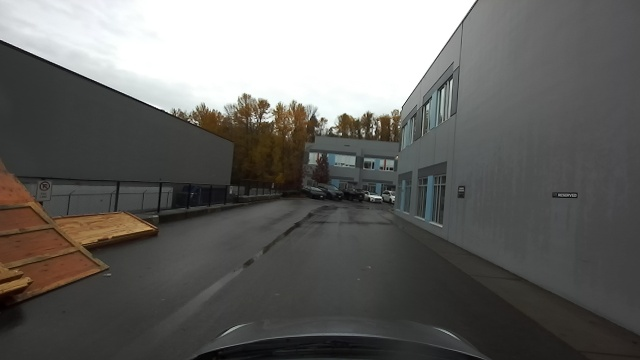car: (326, 186, 342, 200), (305, 188, 324, 199), (346, 189, 363, 201), (367, 192, 383, 203), (385, 190, 394, 202)
